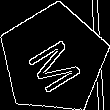M_NE: (21, 26, 86, 92)
